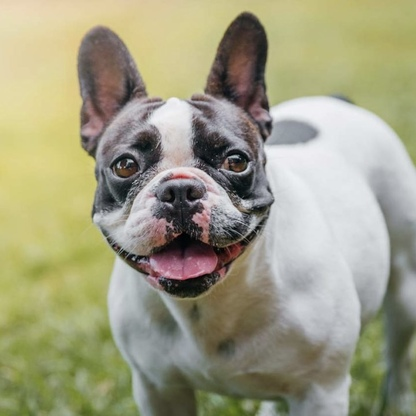bulldog: (72, 10, 414, 416)
